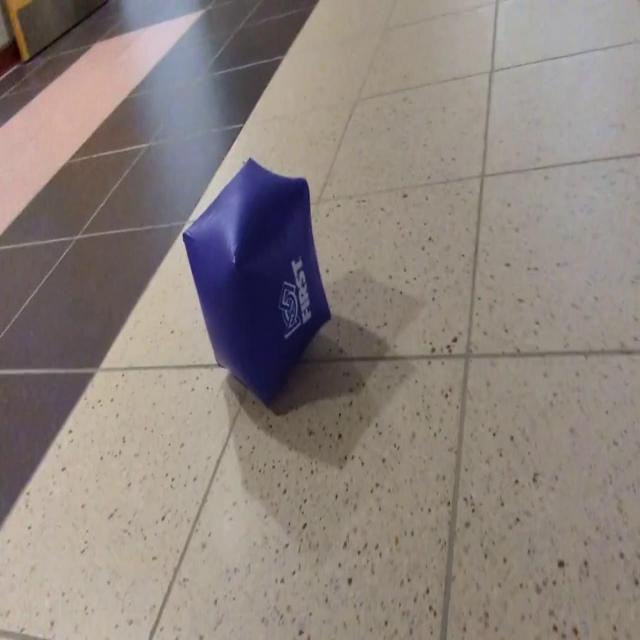frc_cube: (183, 160, 334, 407)
